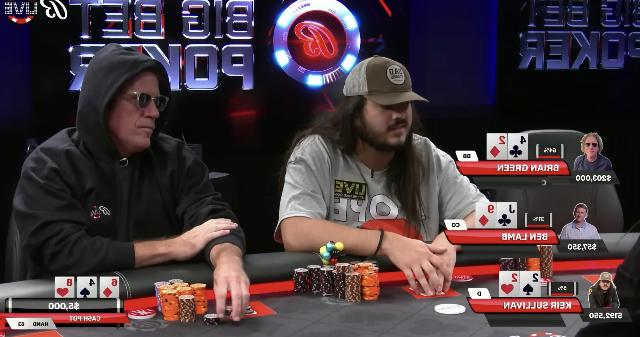2D: (488, 134, 507, 158)
2H: (500, 272, 520, 296)
2S: (520, 272, 540, 296)
4C: (508, 134, 528, 158)
4S: (79, 278, 95, 298)
6D: (102, 278, 118, 298)
8H: (56, 278, 72, 298)
9D: (476, 202, 496, 228)
JC: (498, 202, 516, 228)
